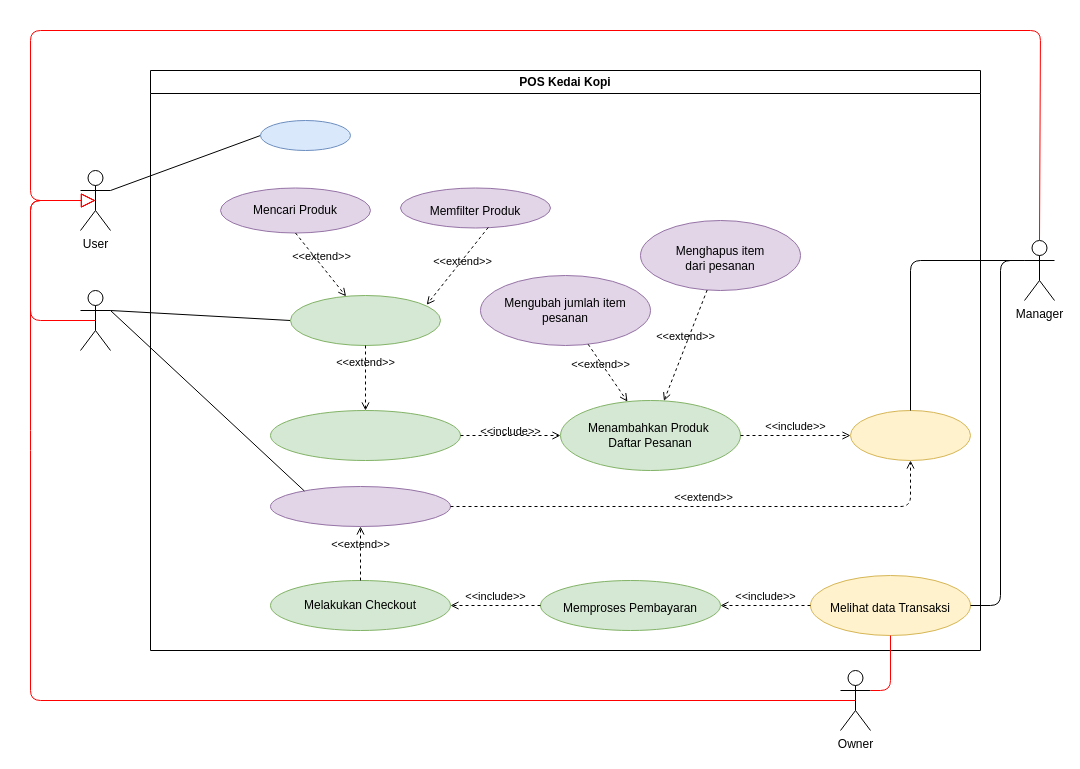
Some shapes in this 1080 by 769 pixel diagram are drawn without their labels. The centre of each missing label's shape, as x and y in pixels:
"Cashier" goes at [95,320].
"Login" goes at [305,135].
"Melihat daftar produk" goes at [365,320].
"Melihat Detail pesanan" goes at [360,506].
"Melihat list daftar Pesanan" goes at [910,435].
"Memilih Produk Pesanan Pelanggan" goes at [365,435].
